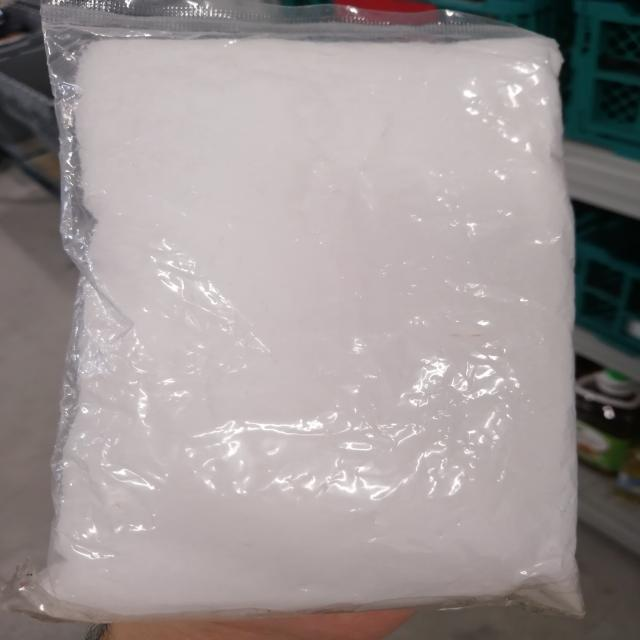object_name: (56, 2, 570, 599)
